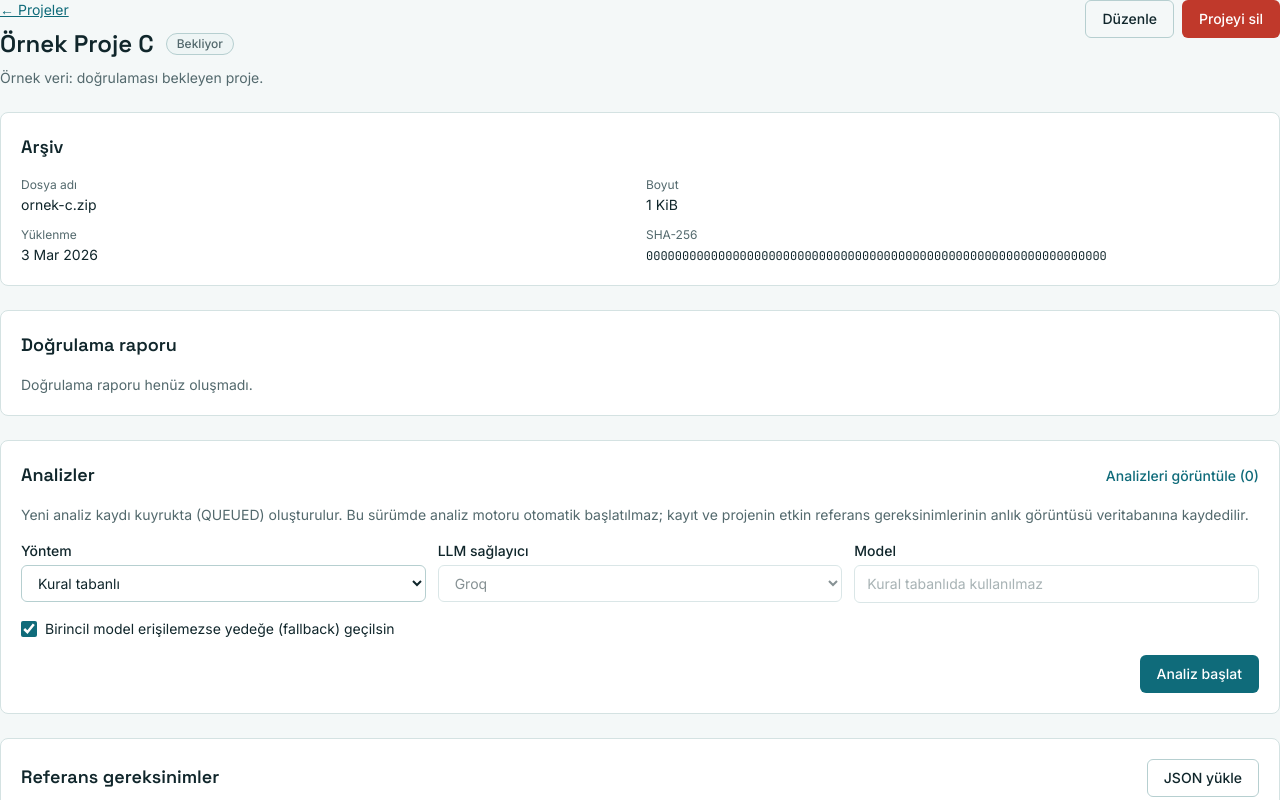
it: detay: analizi olmayan proje silinince listeye yönlenir
Step 1. Click the button "Projeyi sil" → point(1231, 19), box [1182, 0, 1279, 38]
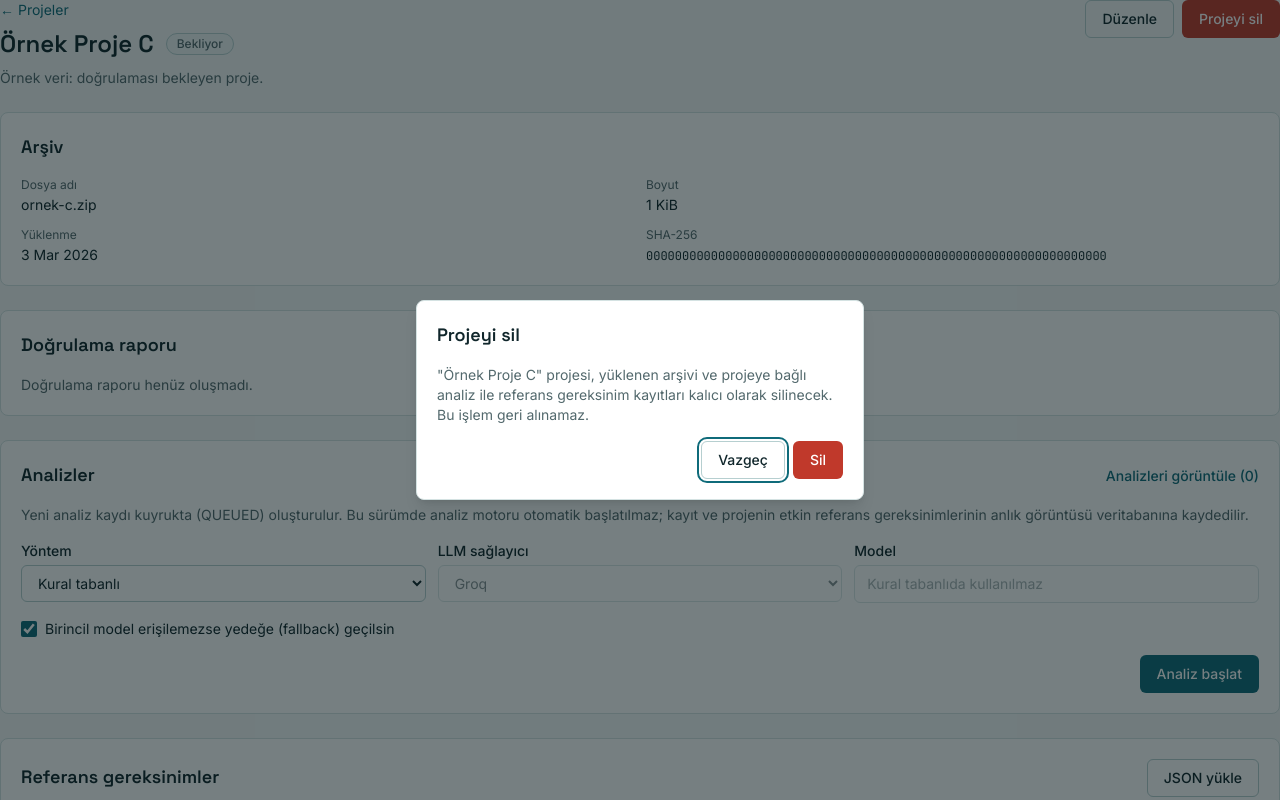
Step 2. Click the button "Sil" → point(818, 460), box [793, 441, 843, 479]
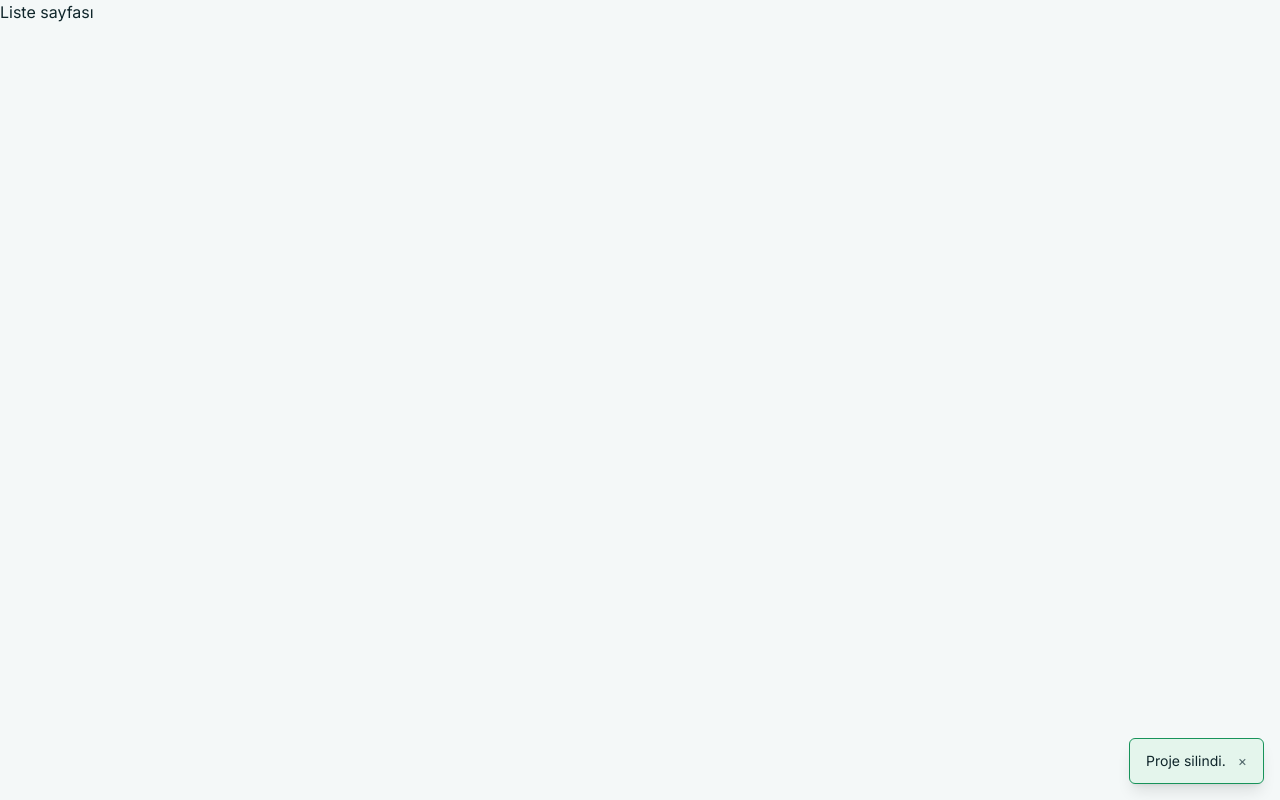
Expected: the text "Liste sayfası" is shown, [0, 2, 94, 22]
